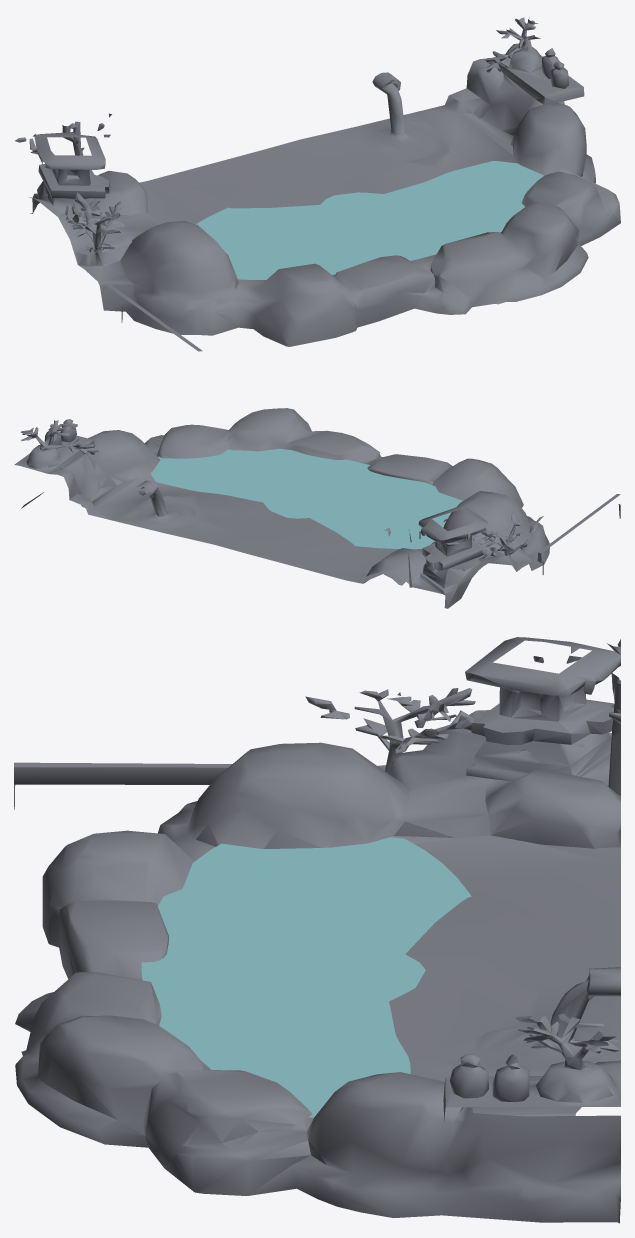
File: show_spa_pool.glb
3 renders of one model, top to bottom at view 1: azimuth 30°, elevation 25°; view 2: azimuth 150°, elevation 25°; view 3: azimuth 270°, elevation 25°, orthographic. The views are drawn at different scales.
Size of the model in its own units: 3.8 by 0.76 by 2.35.
